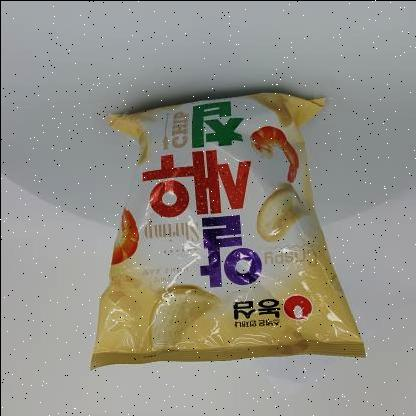Others: (79, 82, 369, 374)
